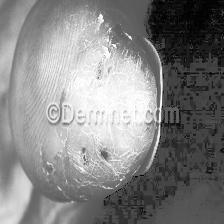Non-Cancerous Skin Condition: (82, 10, 139, 98), (36, 136, 132, 188)
